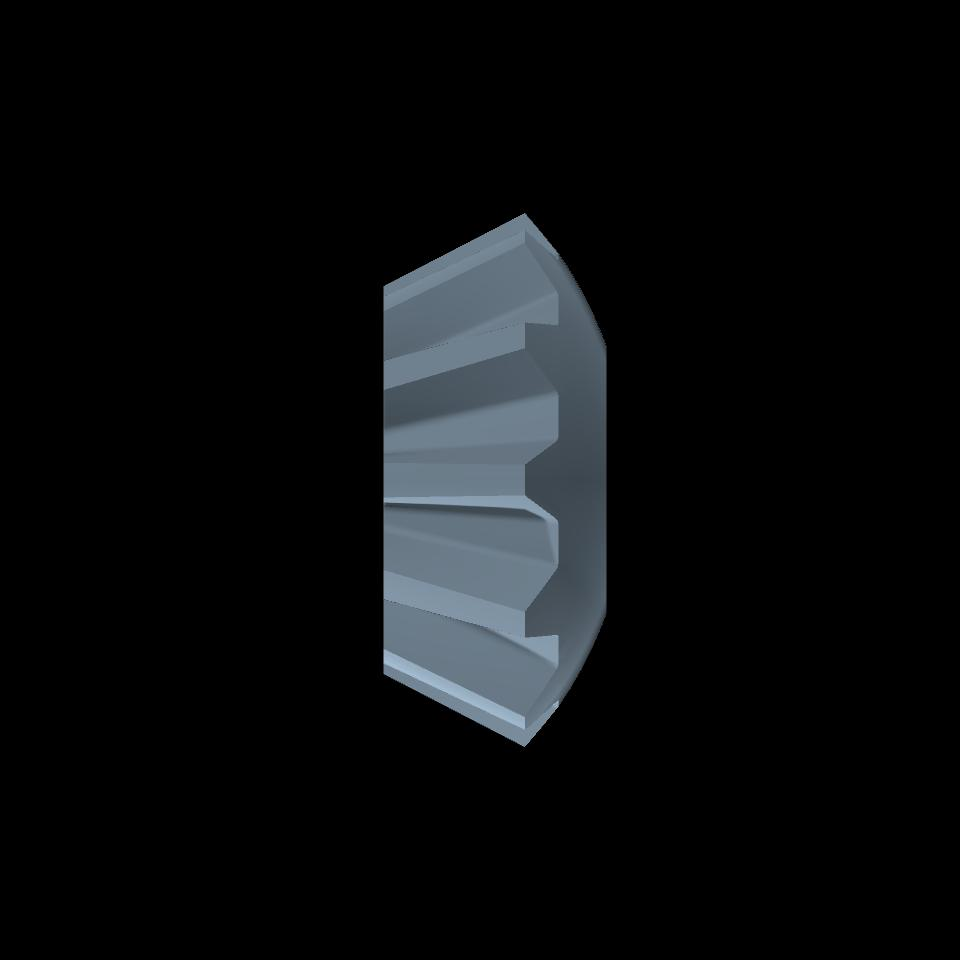Bevel: (382, 213, 606, 748)
